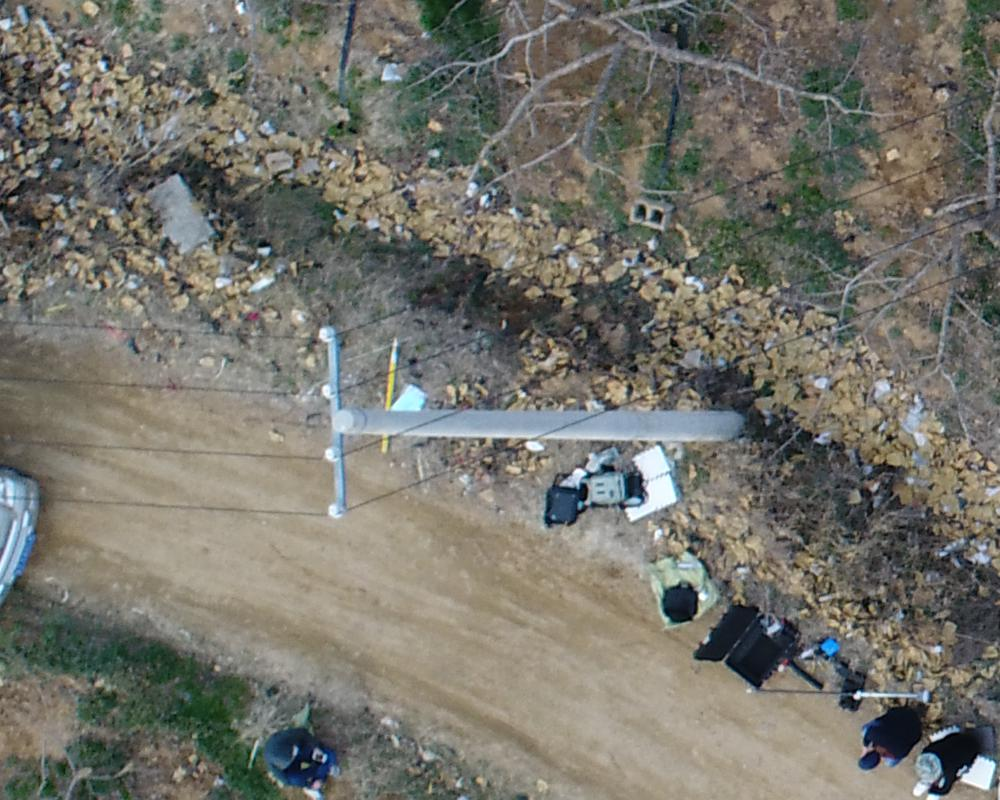apple: (344, 10, 858, 185), (825, 10, 990, 366)
